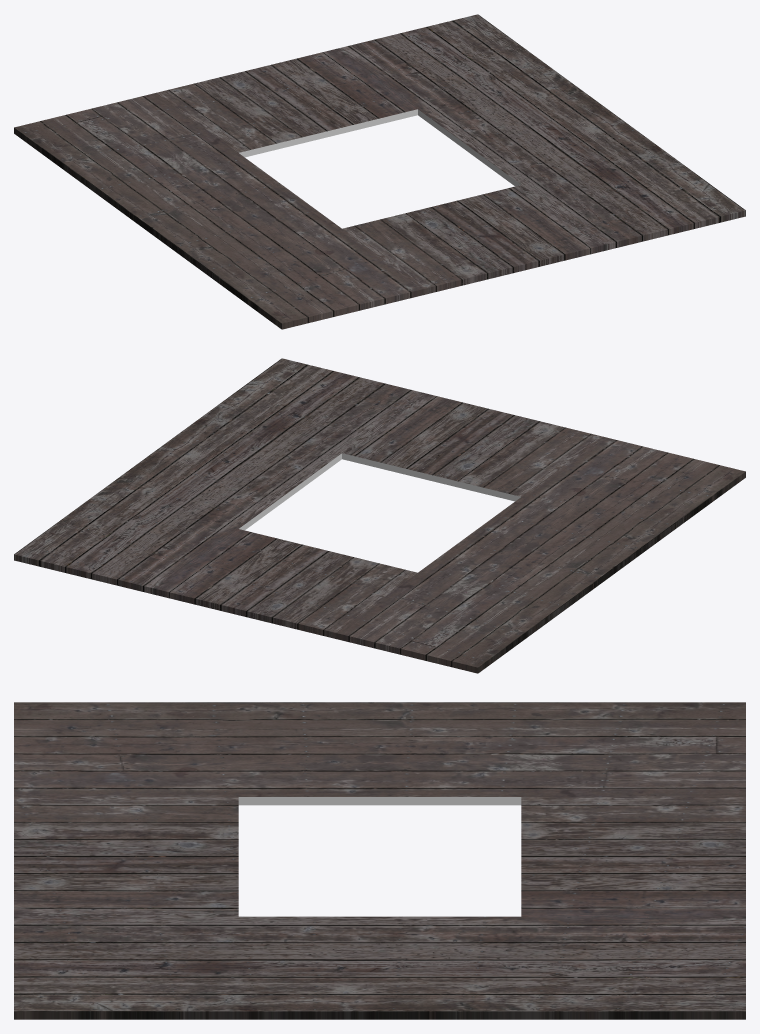
Rendered from Window Segment.fbx.
3 renders of one model, top to bottom at view 1: azimuth 30°, elevation 25°; view 2: azimuth 150°, elevation 25°; view 3: azimuth 270°, elevation 25°, orthographic. The views are drawn at different scales.
Parts seen in each view (by area): view 1: Floor; view 2: Floor; view 3: Floor.
Part boxes in pixels (x1=…): Floor: x1=14, y1=14, x2=745, y2=329; Floor: x1=14, y1=358, x2=745, y2=673; Floor: x1=14, y1=702, x2=745, y2=1019.
Bounding box in the file's own units: 800 × 10 × 800.
